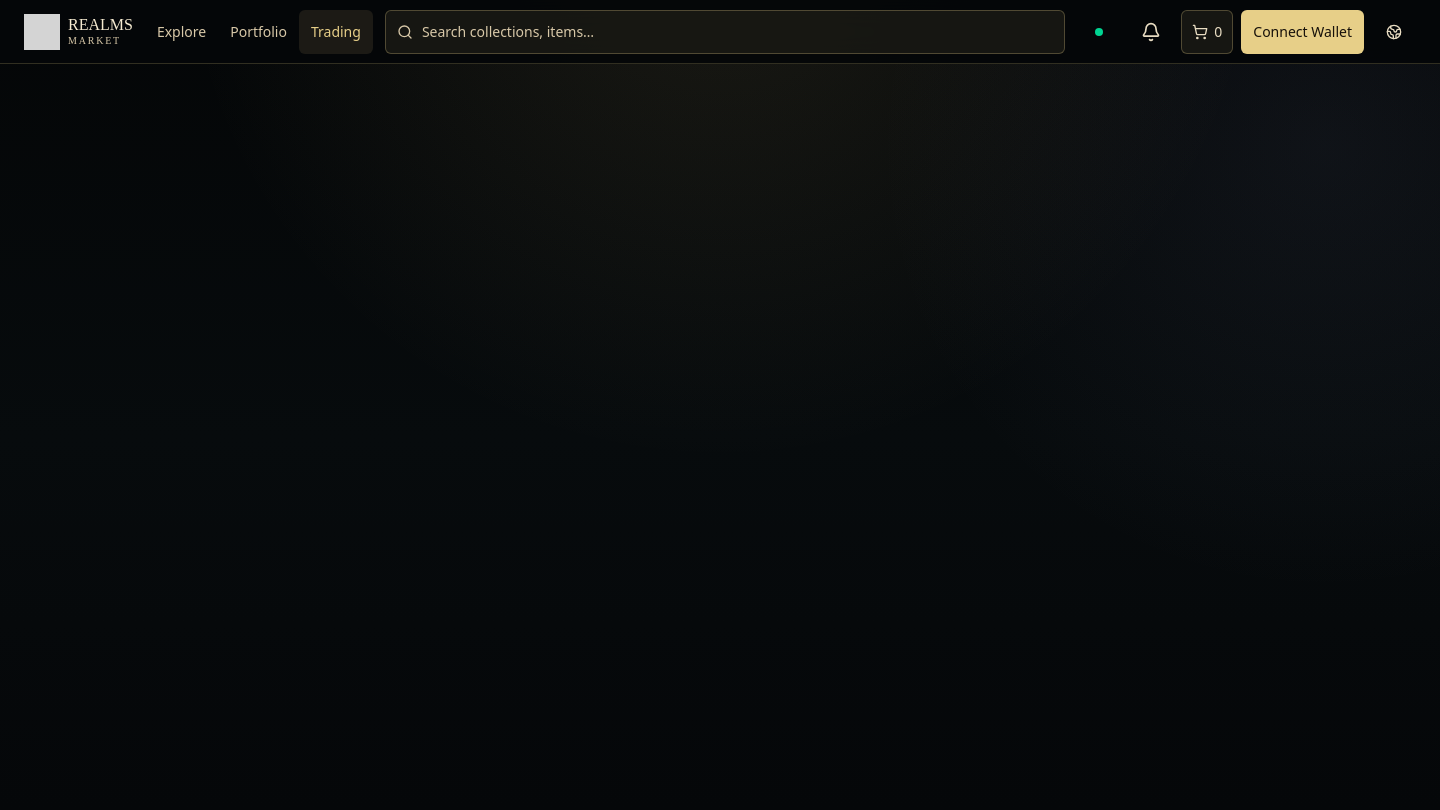
Header › keeps rejected connections open and shows an actionable error
Click the button "Connect Wallet" at (1303, 32), box [1241,10,1364,54]
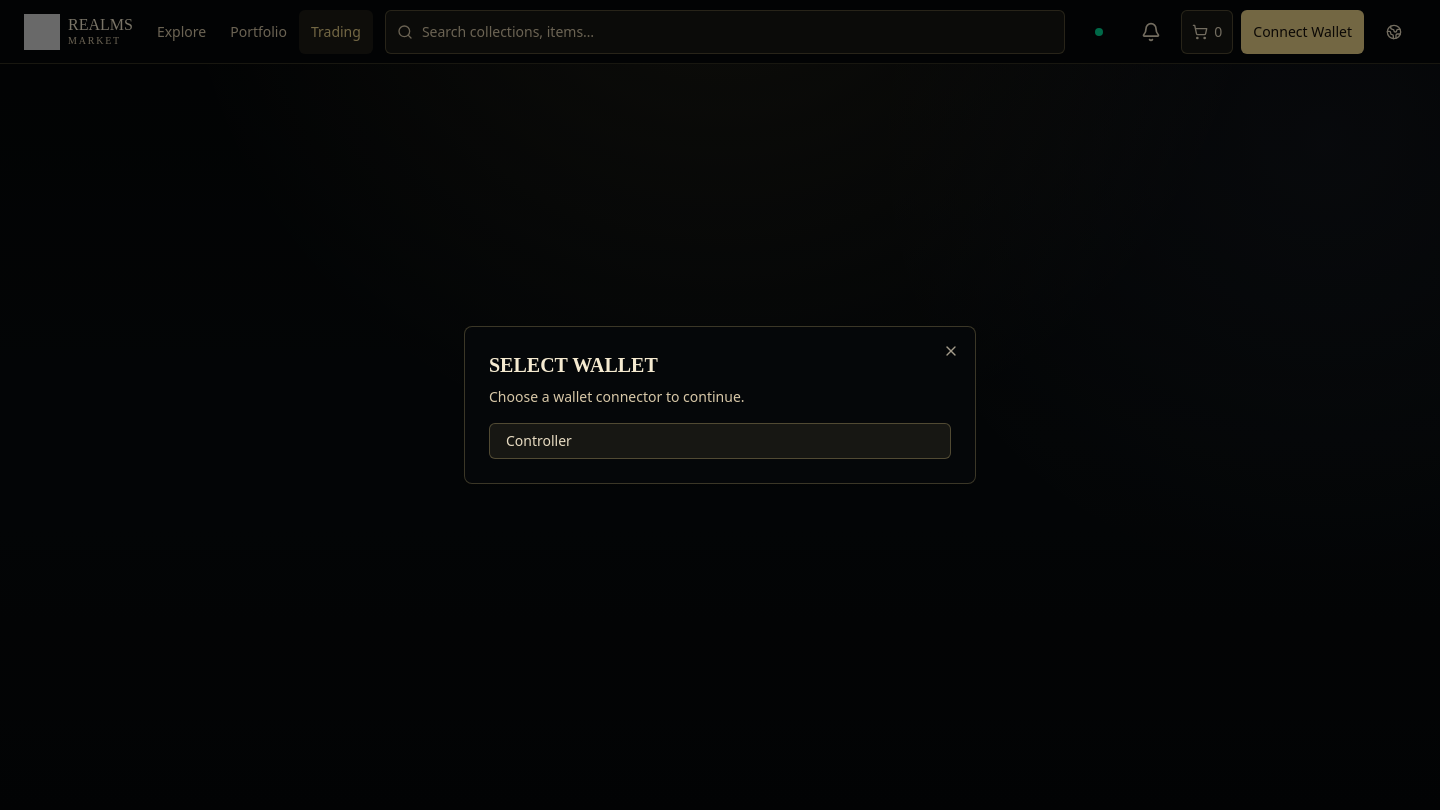
Click the button "Controller" at (539, 440), box [489,423,951,459]
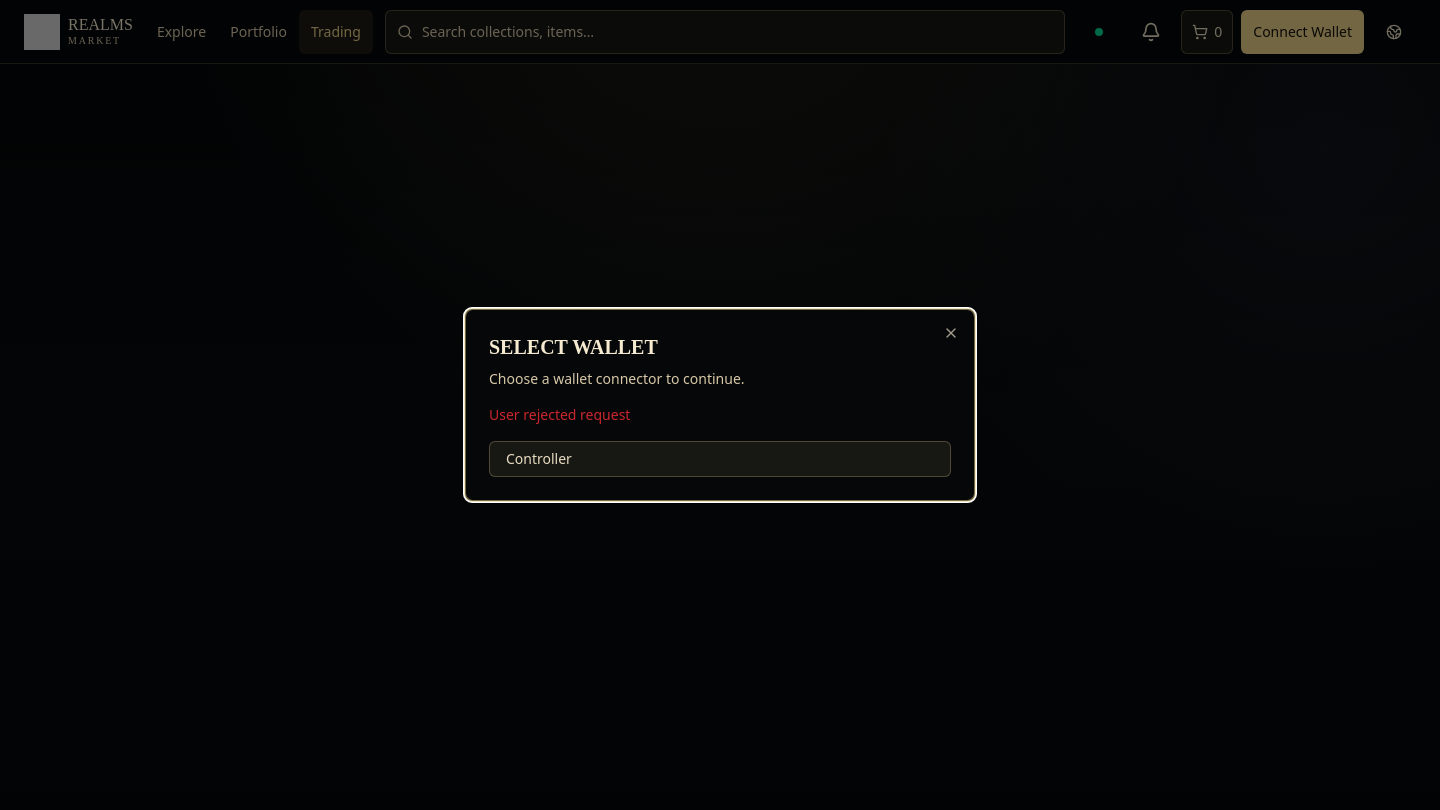
Expected: the dialog is shown, [464,308,976,502]
Expected: the message reads "User rejected request", [489,405,630,424]
Click the button "Controller" at (539, 458), box [489,441,951,477]
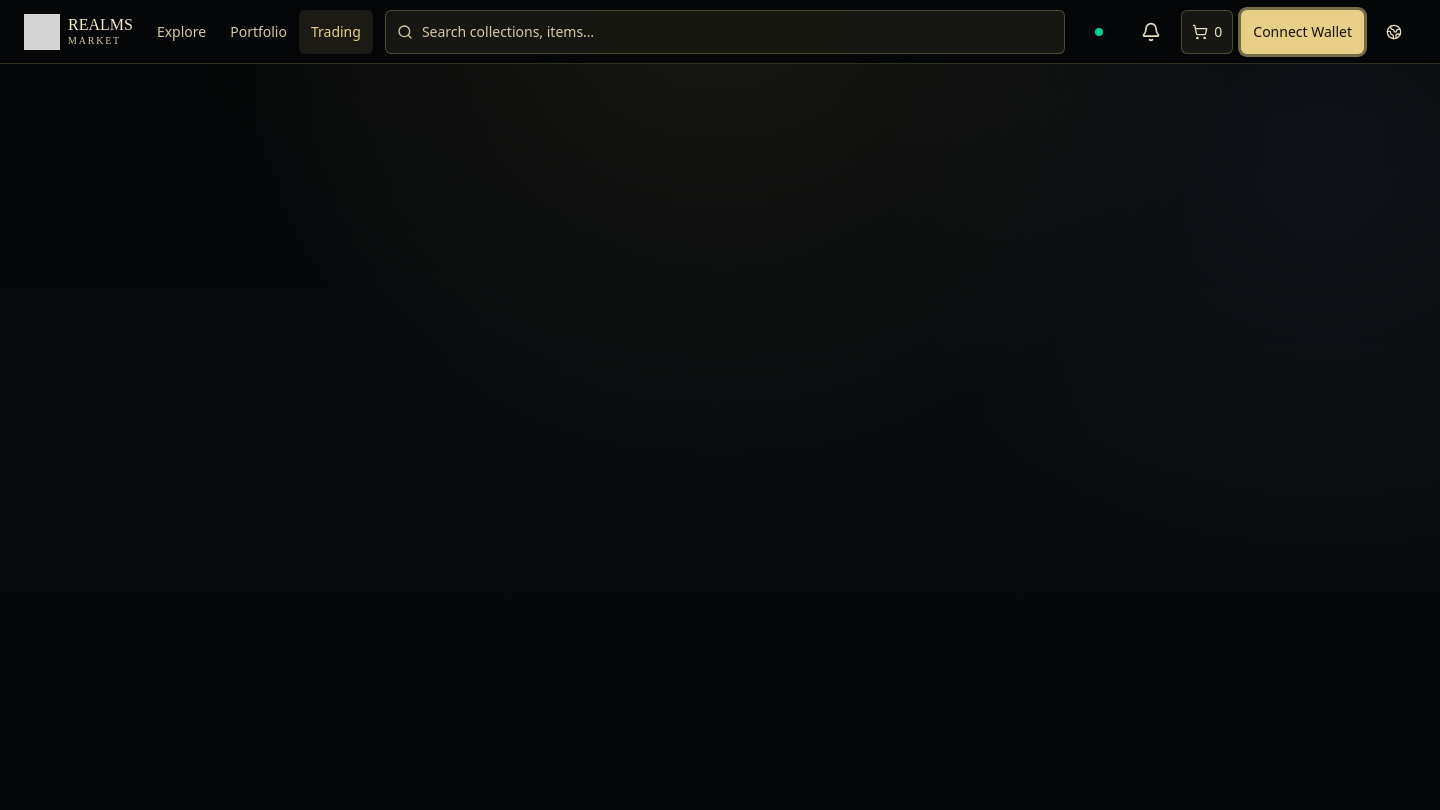
Expected: the dialog is gone
